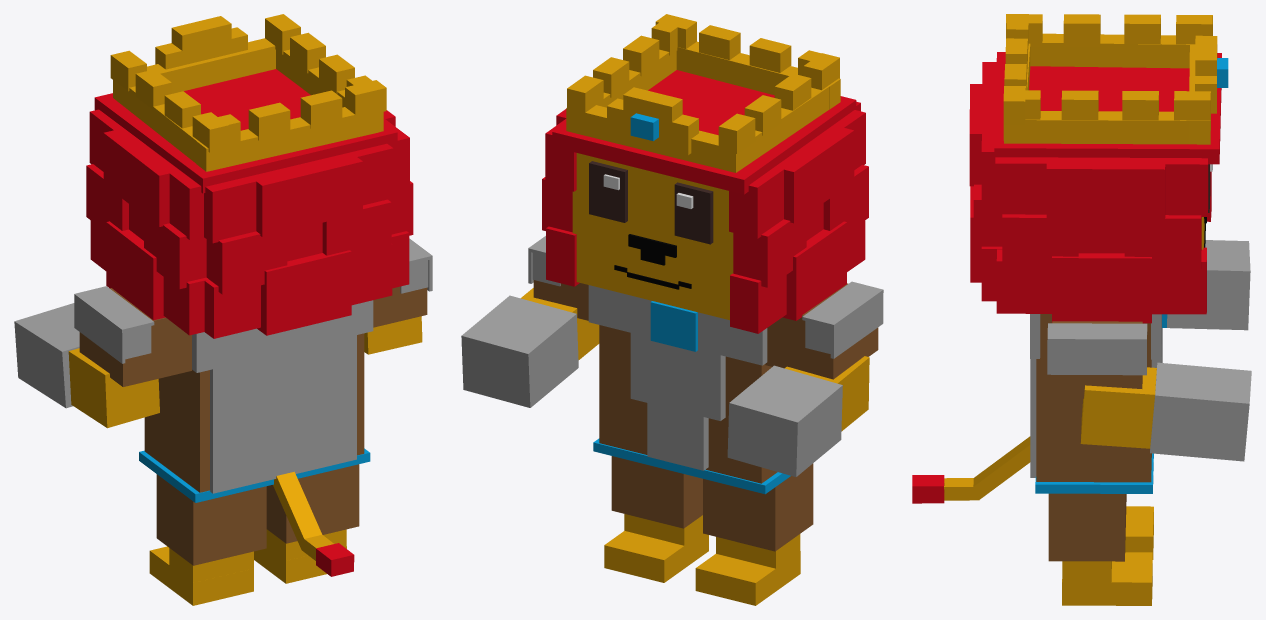
File: Leon_fixed.glb
3 renders of one model, left to right at view 1: azimuth 30°, elevation 25°; view 2: azimuth 150°, elevation 25°; view 3: azimuth 270°, elevation 25°, orthographic. The views are drawn at different scales.
Parts seen in each view (by area): view 1: Cubo.056, Cubo.012, Cubo, Cubo.001; view 2: Cubo.056, Cubo.012; view 3: Cubo.056, Cubo.012, Cubo.001, Cubo.
Part boxes in pixels (bbox=[...]): Cubo.056: bbox=[86, 14, 413, 338]; Cubo.012: bbox=[14, 238, 432, 605]; Cubo: bbox=[273, 471, 321, 549]; Cubo.001: bbox=[301, 534, 354, 576]; Cubo.056: bbox=[542, 14, 868, 333]; Cubo.012: bbox=[461, 236, 883, 605]; Cubo.056: bbox=[969, 14, 1228, 323]; Cubo.012: bbox=[1030, 240, 1251, 605]; Cubo.001: bbox=[912, 475, 979, 503]; Cubo: bbox=[973, 436, 1030, 499].
Size of the model in its own units: 4.15 by 5.99 by 3.54.
